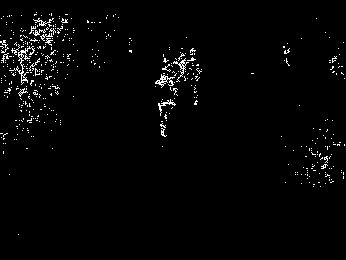person: (184, 46, 203, 107)
